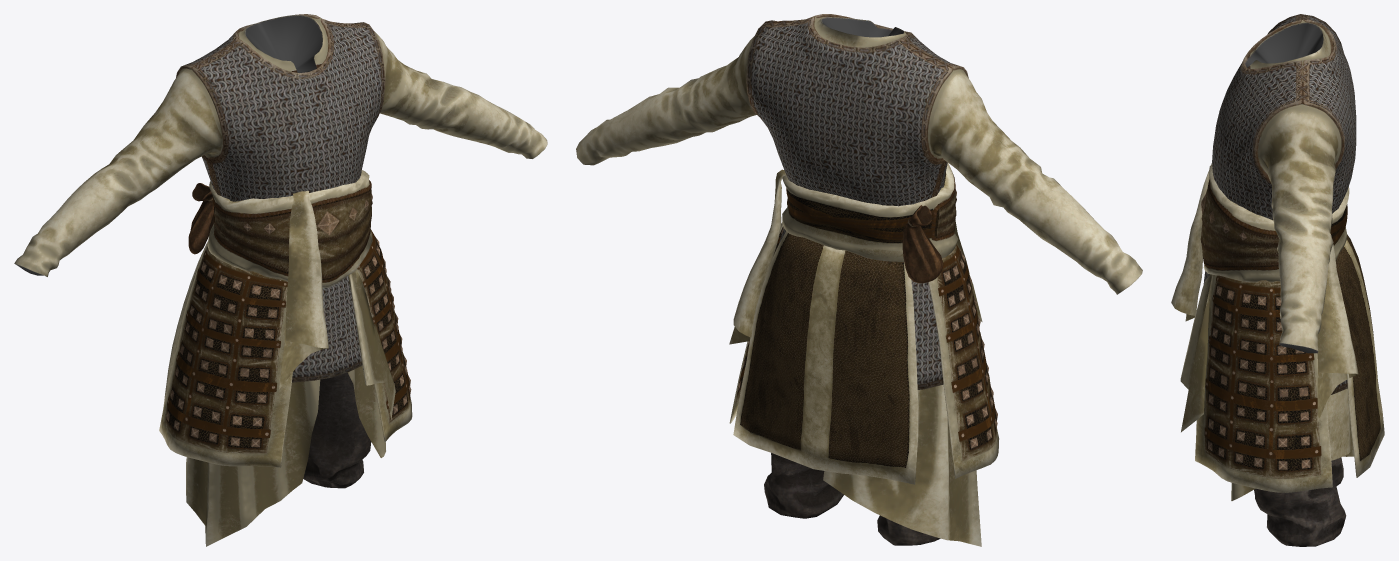
The model's file is dunland_caerdh_chainmail_elite_b.fbx.
3 renders of one model, left to right at view 1: azimuth 30°, elevation 25°; view 2: azimuth 150°, elevation 25°; view 3: azimuth 270°, elevation 25°, orthographic. The views are drawn at different scales.
Parts seen in each view (by area): view 1: dunland_caerdh_chainmail_elite_b, dunland_caerdh_chainmail_elite_b.beltbskirt, dunland_caerdh_chainmail_elite_b.beltb, dunland_caerdh_chainmail_elite_b.skirt; view 2: dunland_caerdh_chainmail_elite_b, dunland_caerdh_chainmail_elite_b.beltbskirt, dunland_caerdh_chainmail_elite_b.beltb, dunland_caerdh_chainmail_elite_b.skirt; view 3: dunland_caerdh_chainmail_elite_b.beltbskirt, dunland_caerdh_chainmail_elite_b, dunland_caerdh_chainmail_elite_b.beltb, dunland_caerdh_chainmail_elite_b.skirt.
Part boxes in pixels (bbox=[...]): dunland_caerdh_chainmail_elite_b: bbox=[14, 14, 547, 488]; dunland_caerdh_chainmail_elite_b.beltbskirt: bbox=[159, 191, 412, 467]; dunland_caerdh_chainmail_elite_b.beltb: bbox=[188, 170, 372, 287]; dunland_caerdh_chainmail_elite_b.skirt: bbox=[186, 366, 385, 546]; dunland_caerdh_chainmail_elite_b: bbox=[576, 14, 1142, 545]; dunland_caerdh_chainmail_elite_b.beltbskirt: bbox=[729, 169, 999, 484]; dunland_caerdh_chainmail_elite_b.beltb: bbox=[782, 163, 957, 283]; dunland_caerdh_chainmail_elite_b.skirt: bbox=[823, 384, 981, 546]; dunland_caerdh_chainmail_elite_b.beltbskirt: bbox=[1171, 163, 1384, 492]; dunland_caerdh_chainmail_elite_b: bbox=[1203, 14, 1356, 546]; dunland_caerdh_chainmail_elite_b.beltb: bbox=[1200, 164, 1349, 282]; dunland_caerdh_chainmail_elite_b.skirt: bbox=[1231, 388, 1354, 500].
Size of the model in its own units: 1.38 by 0.4779 by 1.21.
Materials: 4 (4 with a texture image).
